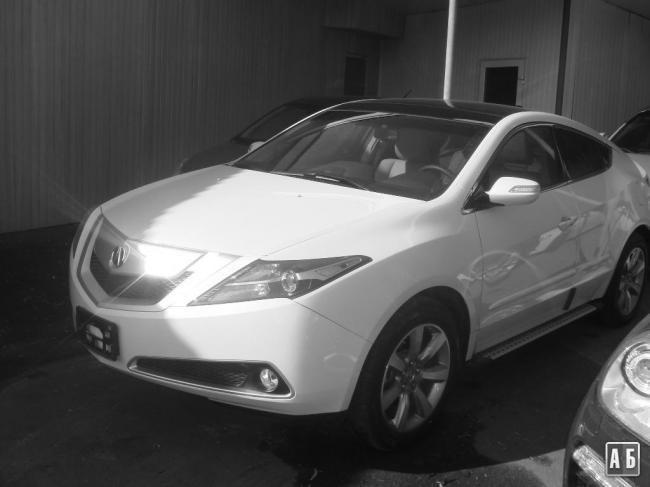car: (65, 101, 650, 453)
